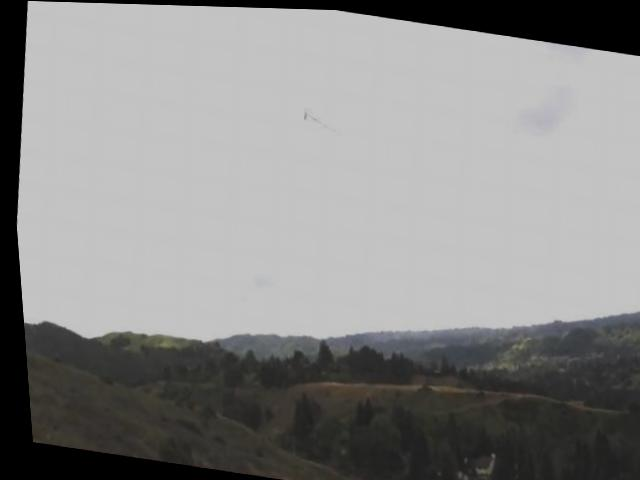iha: (264, 77, 355, 143)
